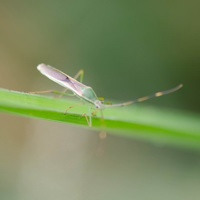insect: (37, 64, 182, 108)
